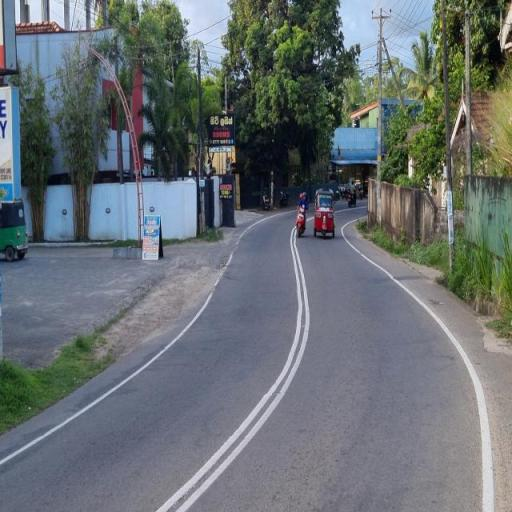double_white_line: (153, 223, 309, 511)
